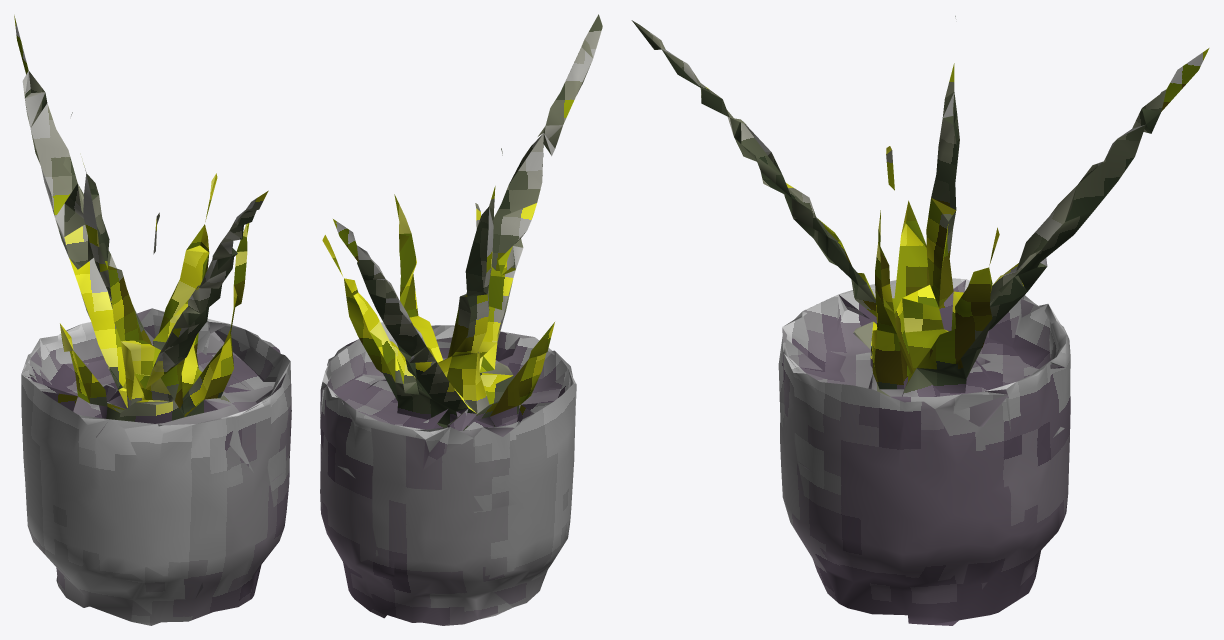
The model's file is aloe_pot.glb.
3 views of the same model, side by side, from view 1: azimuth 30°, elevation 25°; view 2: azimuth 150°, elevation 25°; view 3: azimuth 270°, elevation 25° (orthographic). The views are drawn at different scales.
Visible parts, largest first — view 1: mesh; view 2: mesh; view 3: mesh.
Part boxes in pixels (x1=…): mesh: x1=14, y1=15, x2=291, y2=625; mesh: x1=320, y1=14, x2=602, y2=625; mesh: x1=631, y1=16, x2=1209, y2=625.
Size of the model in its own units: 0.0579 by 0.12 by 0.1151.
Materials: 1 (1 with a texture image).
